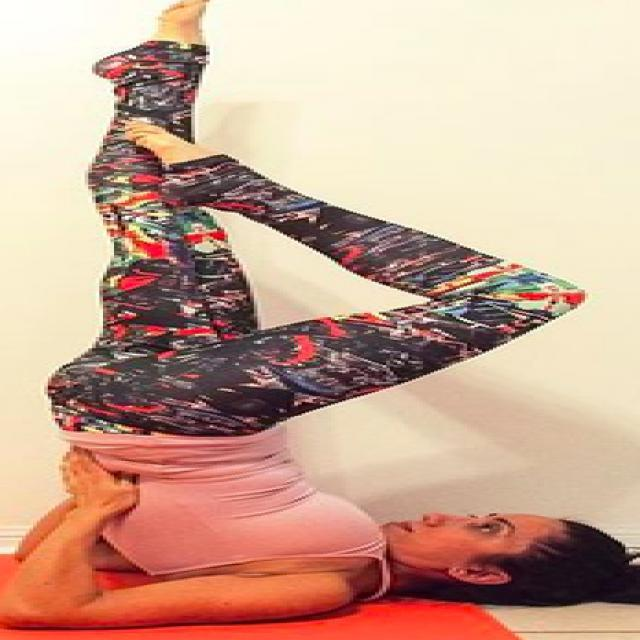yoga-pose shoulderstand: (24, 0, 609, 626)
